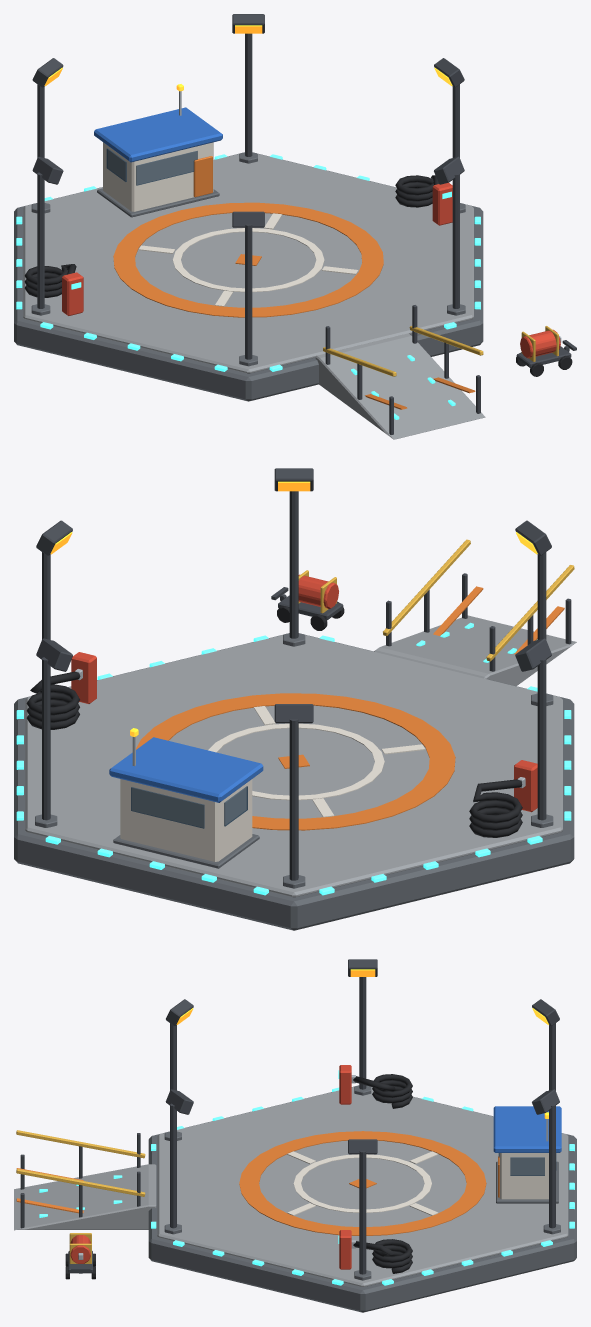
File: hex-spaceship-landing-pad.glb
3 renders of one model, top to bottom at view 1: azimuth 30°, elevation 25°; view 2: azimuth 150°, elevation 25°; view 3: azimuth 270°, elevation 25°, orthographic. The views are drawn at different scales.
Parts seen in each view (by area): view 1: Pad_Deck, Pad_Base, Ramp, Landing_Ring, Booth_Body, Booth_Roof, Landing_InnerRing, Booth_Window_Front, FuelHose_0, Flood_Pole_4, Flood_Pole_3, Flood_Pole_5 (+12 smaller); view 2: Pad_Deck, Pad_Base, Landing_Ring, Booth_Body, Ramp, Booth_Roof, FuelHose_3, Landing_InnerRing, FuelHose_0, Booth_Window_Back, Flood_Pole_2, Flood_Pole_3 (+17 smaller); view 3: Pad_Deck, Pad_Base, Ramp, Landing_Ring, Booth_Roof, Booth_Body, Landing_InnerRing, FuelHose_3, FuelHose_0, Flood_Pole_0, Flood_Pole_1, Flood_Pole_5 (+10 smaller).
Boxes of the visible parts, <box> form: Pad_Deck: <box>23,154,473,373</box>; Pad_Base: <box>14,153,483,401</box>; Ramp: <box>315,333,485,439</box>; Landing_Ring: <box>113,202,383,317</box>; Booth_Body: <box>103,142,213,211</box>; Booth_Roof: <box>94,107,222,162</box>; Landing_InnerRing: <box>172,228,324,292</box>; Booth_Window_Front: <box>136,151,197,185</box>; FuelHose_0: <box>395,175,438,207</box>; Flood_Pole_4: <box>245,224,252,359</box>; Flood_Pole_3: <box>37,172,44,308</box>; Flood_Pole_5: <box>452,172,459,308</box>; Pad_Deck: <box>25,635,562,897</box>; Pad_Base: <box>14,634,574,930</box>; Landing_Ring: <box>136,693,455,830</box>; Booth_Body: <box>120,779,252,861</box>; Ramp: <box>374,615,576,686</box>; Booth_Roof: <box>109,737,263,802</box>; FuelHose_3: <box>469,779,522,837</box>; Landing_InnerRing: <box>208,723,384,800</box>; FuelHose_0: <box>26,671,80,729</box>; Booth_Window_Back: <box>131,787,204,828</box>; Flood_Pole_2: <box>289,719,298,880</box>; Flood_Pole_3: <box>537,657,546,820</box>; Pad_Deck: <box>157,1087,568,1286</box>; Pad_Base: <box>148,1086,576,1312</box>; Ramp: <box>14,1164,156,1230</box>; Landing_Ring: <box>239,1131,486,1235</box>; Booth_Roof: <box>493,1106,561,1152</box>; Booth_Body: <box>499,1153,548,1199</box>; Landing_InnerRing: <box>293,1154,431,1212</box>; FuelHose_3: <box>353,1074,412,1108</box>; FuelHose_0: <box>353,1239,412,1273</box>; Flood_Pole_0: <box>359,1151,366,1274</box>; Flood_Pole_1: <box>549,1103,555,1228</box>; Flood_Pole_5: <box>170,1103,176,1228</box>.
Size of the model in its own units: 39.75 by 14.32 by 45.54.
